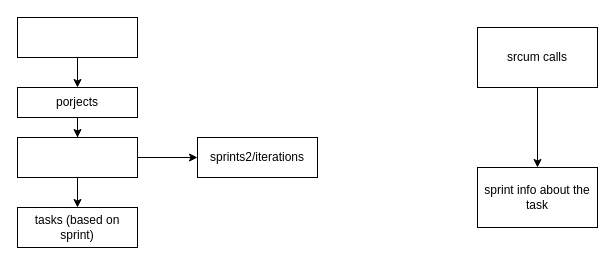
This 615x265 diagram has some shape labels left out. The shapes that lost their labels are listed below. From the top down, each one's centre as x and y in pixels, then its label:
At point 77,37: "organization".
At point 77,157: "sprints1iterations".
